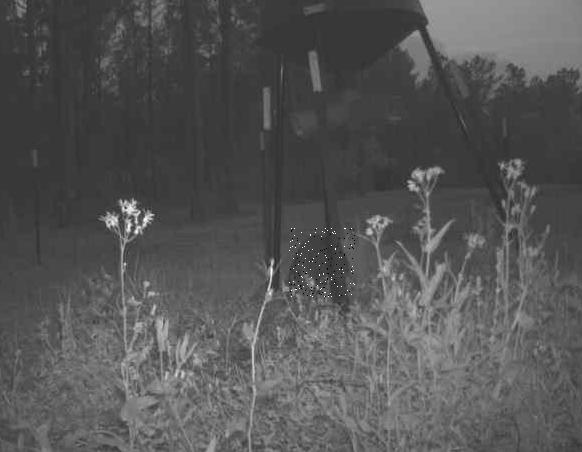Raccoon: (290, 229, 356, 298)
